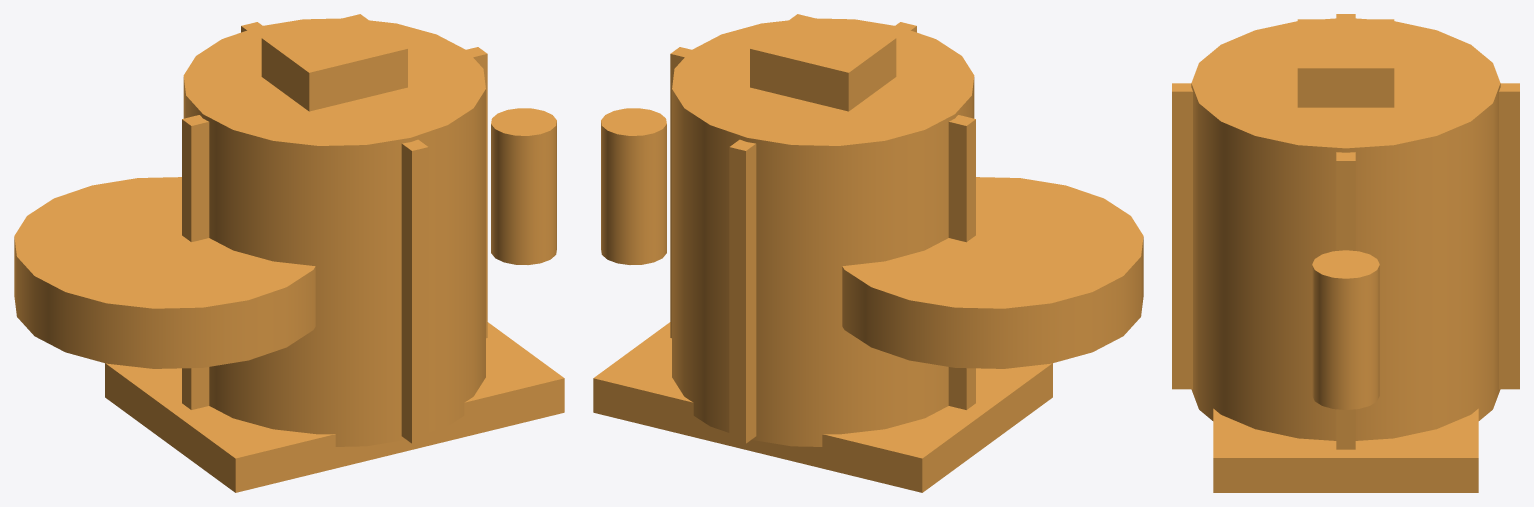
Rendered from motor.gltf.
3 views of the same model, side by side, from view 1: azimuth 30°, elevation 25°; view 2: azimuth 150°, elevation 25°; view 3: azimuth 270°, elevation 25° (orthographic).
Visible parts, largest first — view 1: ElectricInductionMotor; view 2: ElectricInductionMotor; view 3: ElectricInductionMotor.
Part boxes in pixels (x1,y1,x2,y2): ElectricInductionMotor: (14, 14, 564, 492); ElectricInductionMotor: (593, 14, 1143, 492); ElectricInductionMotor: (1172, 14, 1519, 492).
Bounding box in the file's own units: 12.6 × 8.4 × 7.2.
